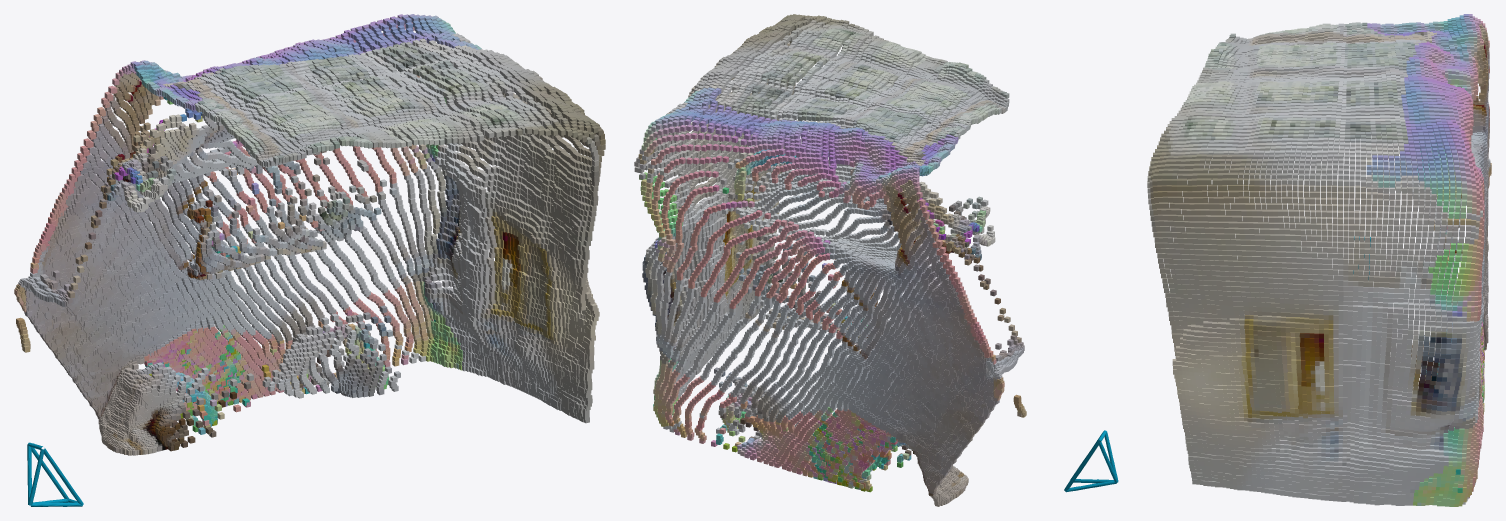
File: pred_0-compressed.glb
3 views of the same model, side by side, from view 1: azimuth 30°, elevation 25°; view 2: azimuth 150°, elevation 25°; view 3: azimuth 270°, elevation 25° (orthographic). The views are drawn at different scales.
Size of the model in its own units: 5.33 by 3.93 by 3.37.
